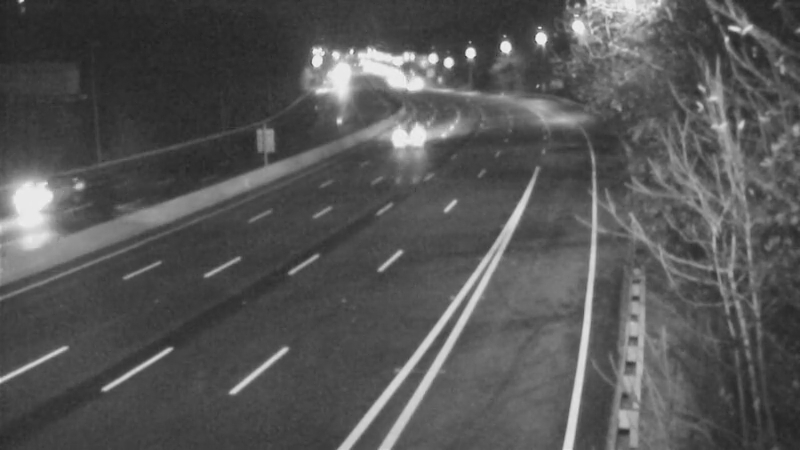vehicle: (1, 161, 78, 241), (382, 112, 432, 162)
